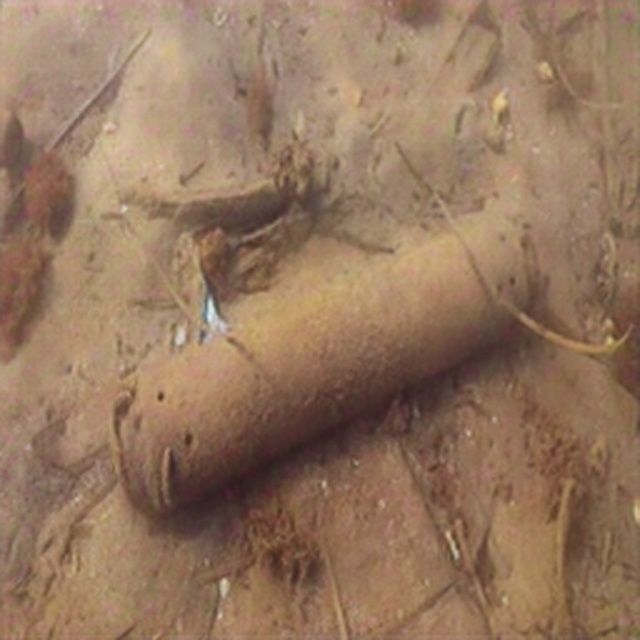mine: (112, 213, 537, 519)
